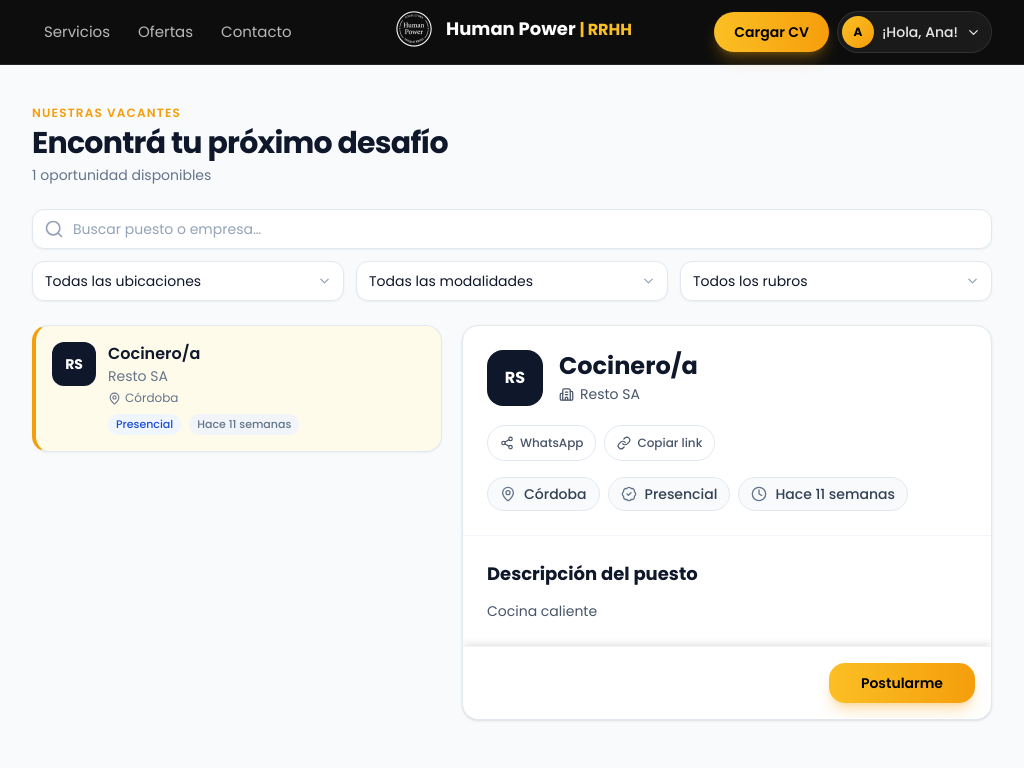
Test: OfertasPage · evento postulacion_enviada › manda el rubro del aviso y con_video=true cuando el perfil tiene video
Click the button "Postularme": (902, 683) [829,663,975,703]
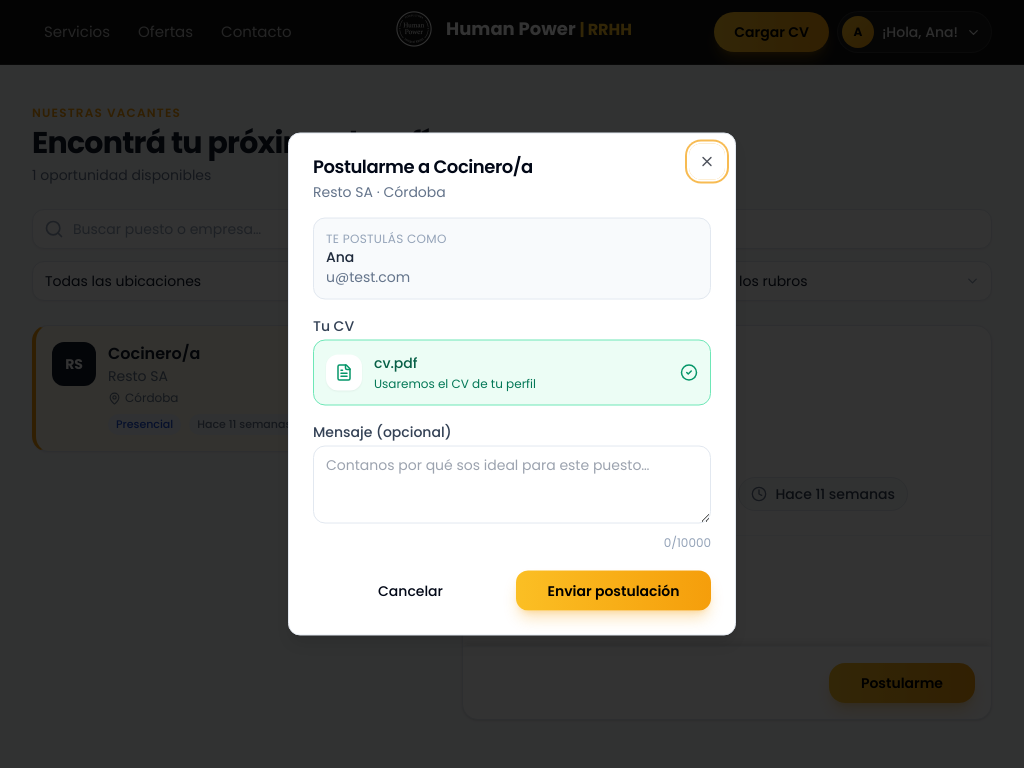
Click the button "Enviar postulación": (614, 590) [516,570,711,610]
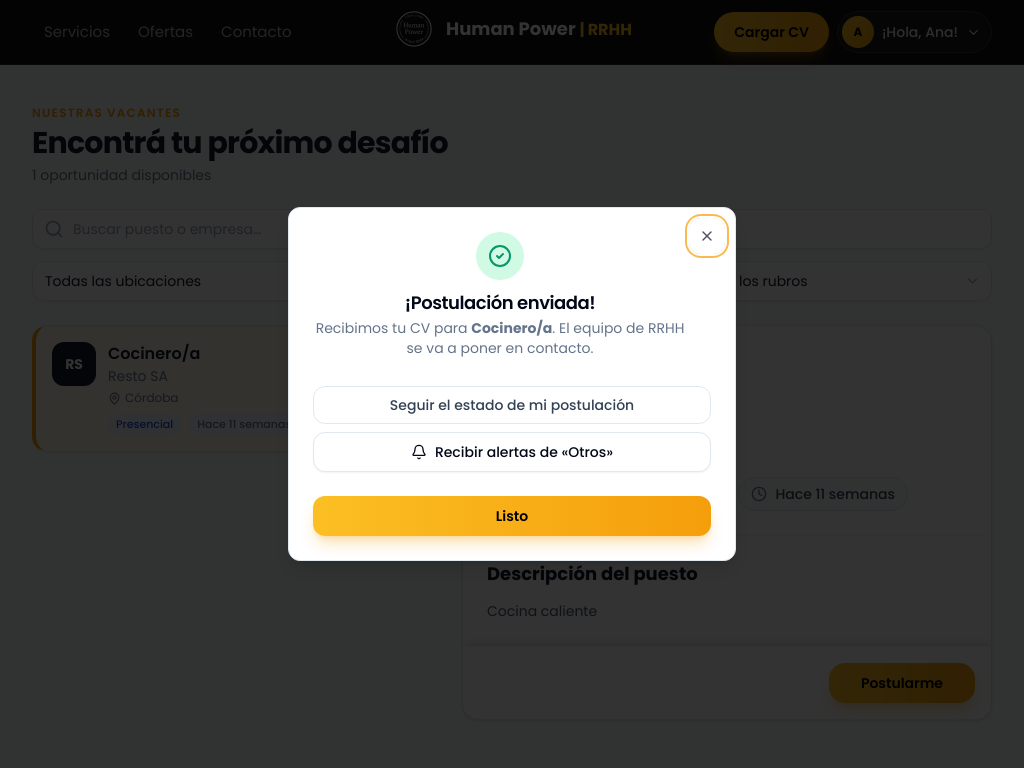
Now the heading "¡Postulación enviada!" is shown, box [405,290,595,315]
